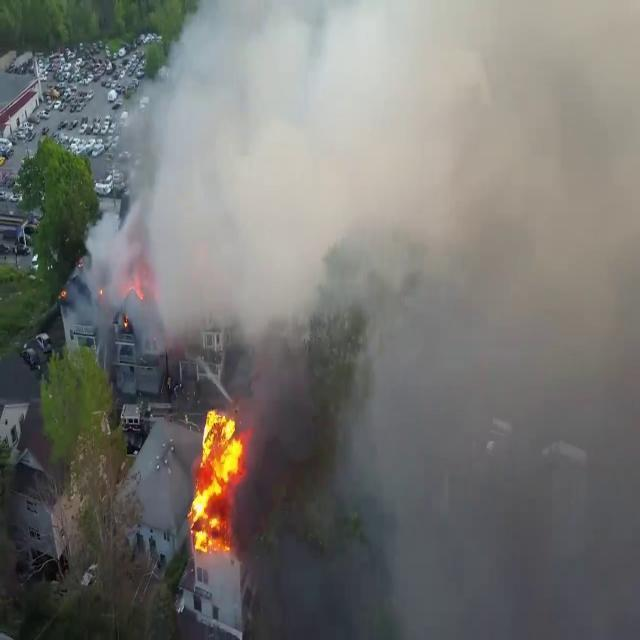Fire: (185, 401, 247, 553)
Smoke: (76, 0, 636, 393), (318, 0, 640, 640)
